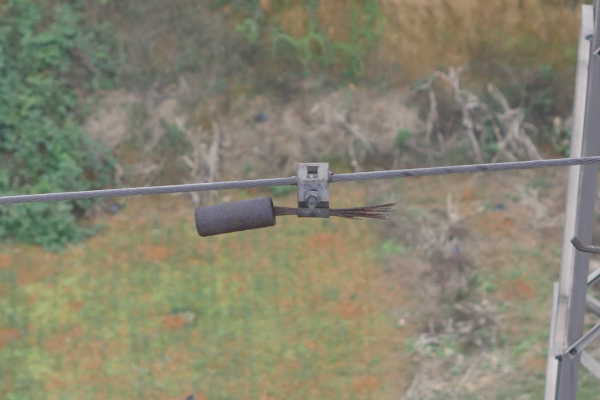damper_defect: (191, 158, 401, 240)
